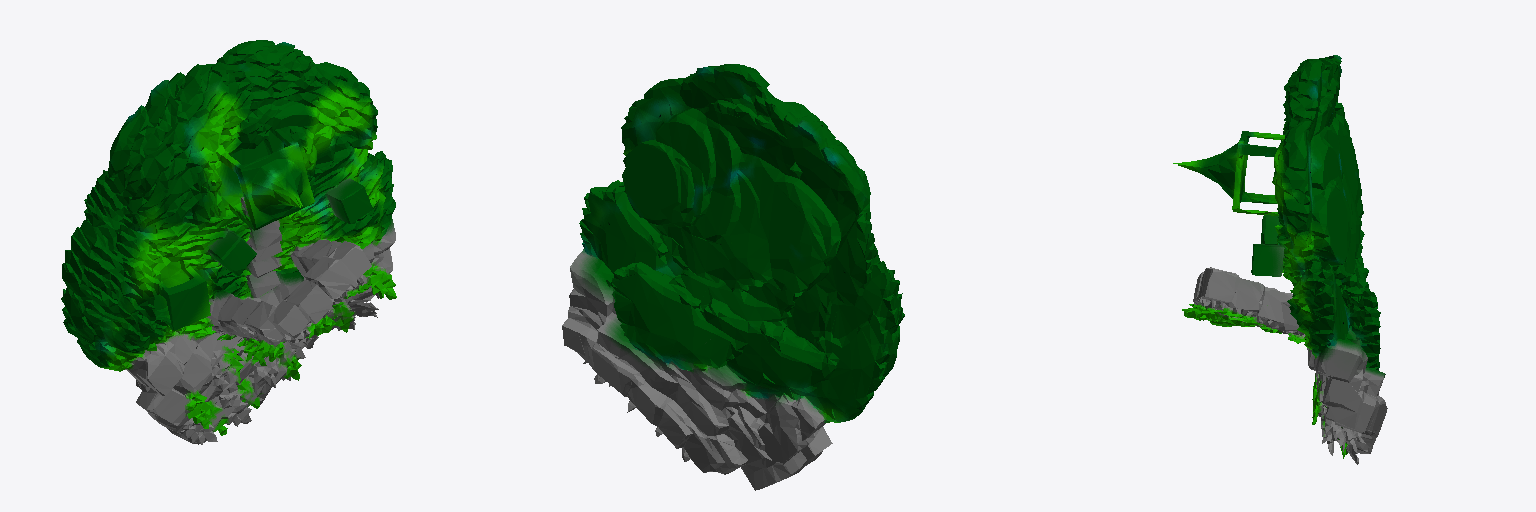
3 views of the same model, side by side, from view 1: azimuth 30°, elevation 25°; view 2: azimuth 150°, elevation 25°; view 3: azimuth 270°, elevation 25° (orthographic).
Parts seen in each view (by area): view 1: Layer_2; view 2: Layer_2; view 3: Layer_2.
Boxes of the visible parts, x1=… form: Layer_2: x1=61, y1=40, x2=396, y2=444; Layer_2: x1=562, y1=64, x2=904, y2=490; Layer_2: x1=1173, y1=55, x2=1387, y2=464.
Bounding box in the file's own units: 2.94 × 3.46 × 1.69.
1 materials, 1 textured.